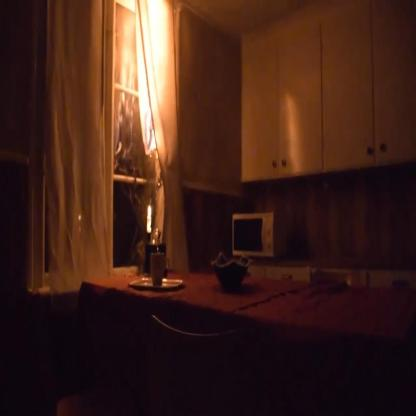fire: (122, 0, 177, 152), (146, 202, 152, 217)
